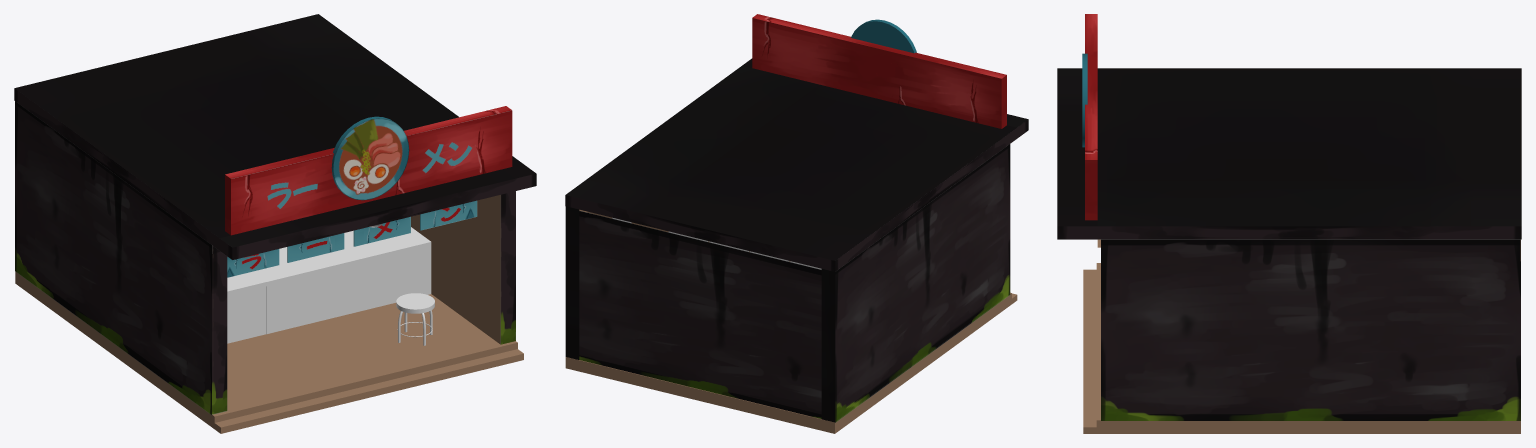
File: RamenStoreTexture1.fbx
The picture shows the model from 3 angles, left to right: view 1: azimuth 30°, elevation 25°; view 2: azimuth 150°, elevation 25°; view 3: azimuth 270°, elevation 25°; orthographic projection. The views are drawn at different scales.
Parts seen in each view (by area): view 1: Roof, Wall_SIde, Floor/Ground, Table, Sign, TableDoorFront, Name_Curtin.001, Name_Curtin.003, Name_Curtin.002, Name_Curtin, Stool, TableDoorTop; view 2: Roof, Wall_back, Wall_SIde, Floor/Ground, Sign; view 3: Roof, Wall_SIde, Floor/Ground.
Part boxes in pixels (left/top/right/bottom): Roof: left=14, top=14, right=536, bottom=259; Wall_SIde: left=15, top=101, right=515, bottom=415; Floor/Ground: left=15, top=272, right=523, bottom=433; Table: left=252, top=227, right=431, bottom=334; Sign: left=331, top=116, right=409, bottom=200; TableDoorFront: left=227, top=286, right=265, bottom=343; Name_Curtin.001: left=287, top=233, right=344, bottom=262; Name_Curtin.003: left=420, top=200, right=477, bottom=230; Name_Curtin.002: left=353, top=216, right=410, bottom=246; Name_Curtin: left=227, top=249, right=279, bottom=277; Stool: left=396, top=293, right=434, bottom=313; TableDoorTop: left=227, top=272, right=266, bottom=295; Roof: left=565, top=14, right=1028, bottom=271; Wall_back: left=579, top=210, right=821, bottom=418; Wall_SIde: left=565, top=144, right=1010, bottom=422; Floor/Ground: left=565, top=292, right=1017, bottom=433; Sign: left=851, top=19, right=916, bottom=53; Roof: left=1057, top=14, right=1521, bottom=247; Wall_SIde: left=1101, top=239, right=1520, bottom=420; Floor/Ground: left=1083, top=263, right=1520, bottom=433.
Size of the model in its own units: 680 by 595 by 844.
